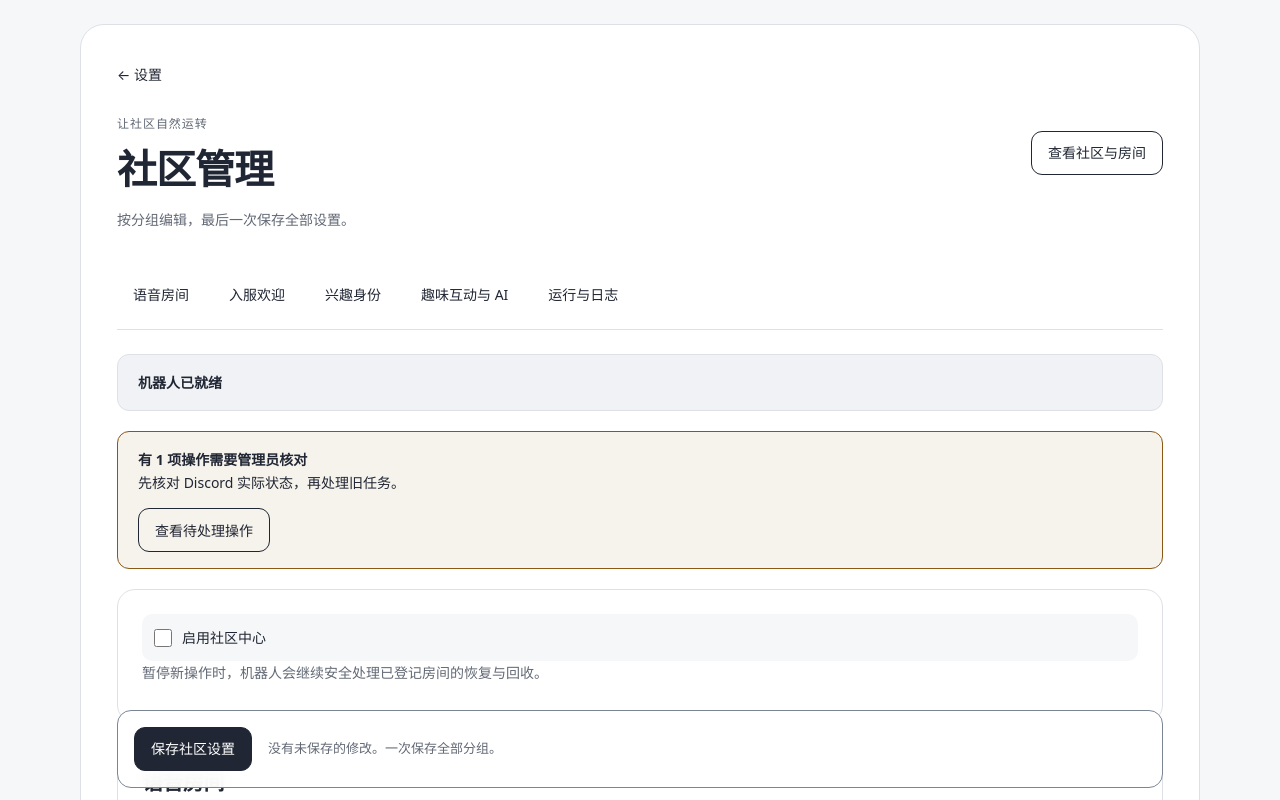
removes private admin configuration immediately after a forbidden save
The image size is (1280, 800).
Click the button "保存社区设置".
click(193, 749)  # box 134,727 -> 252,771
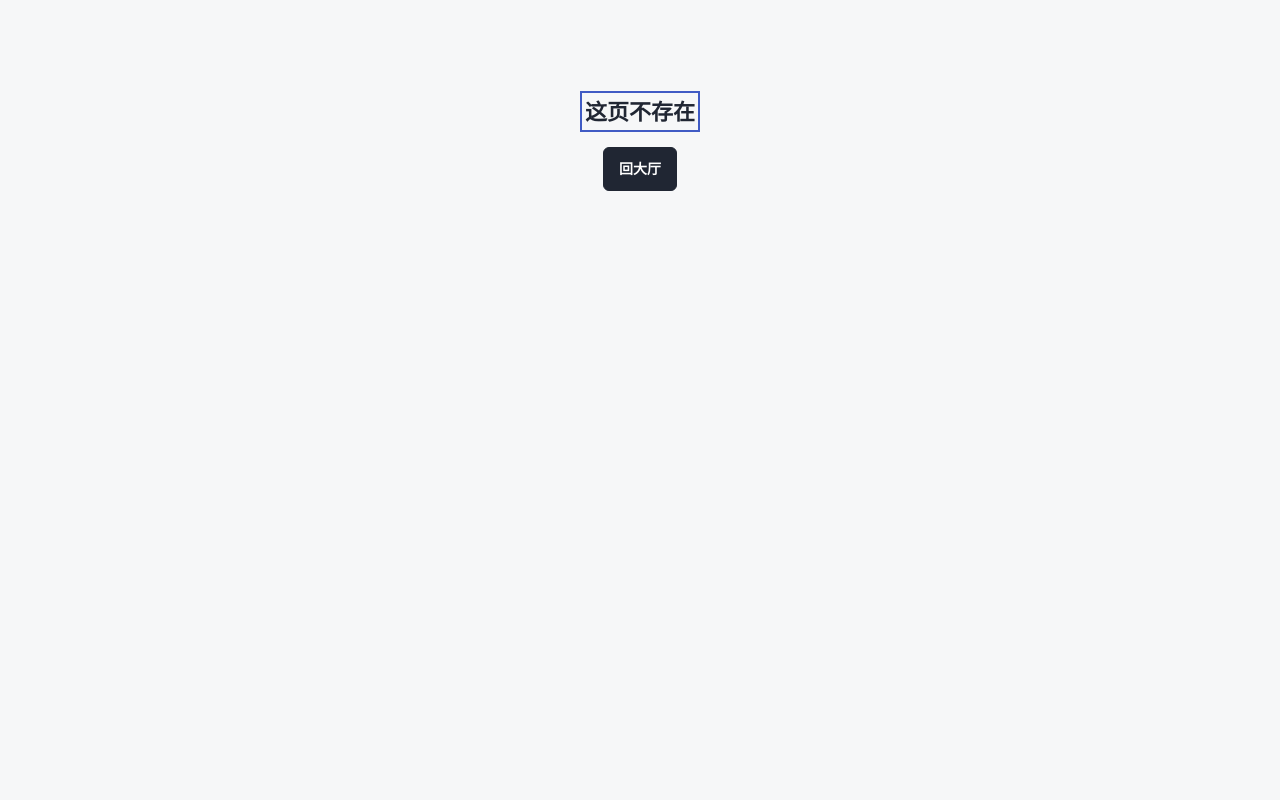
Check: the button "保存社区设置" is gone
